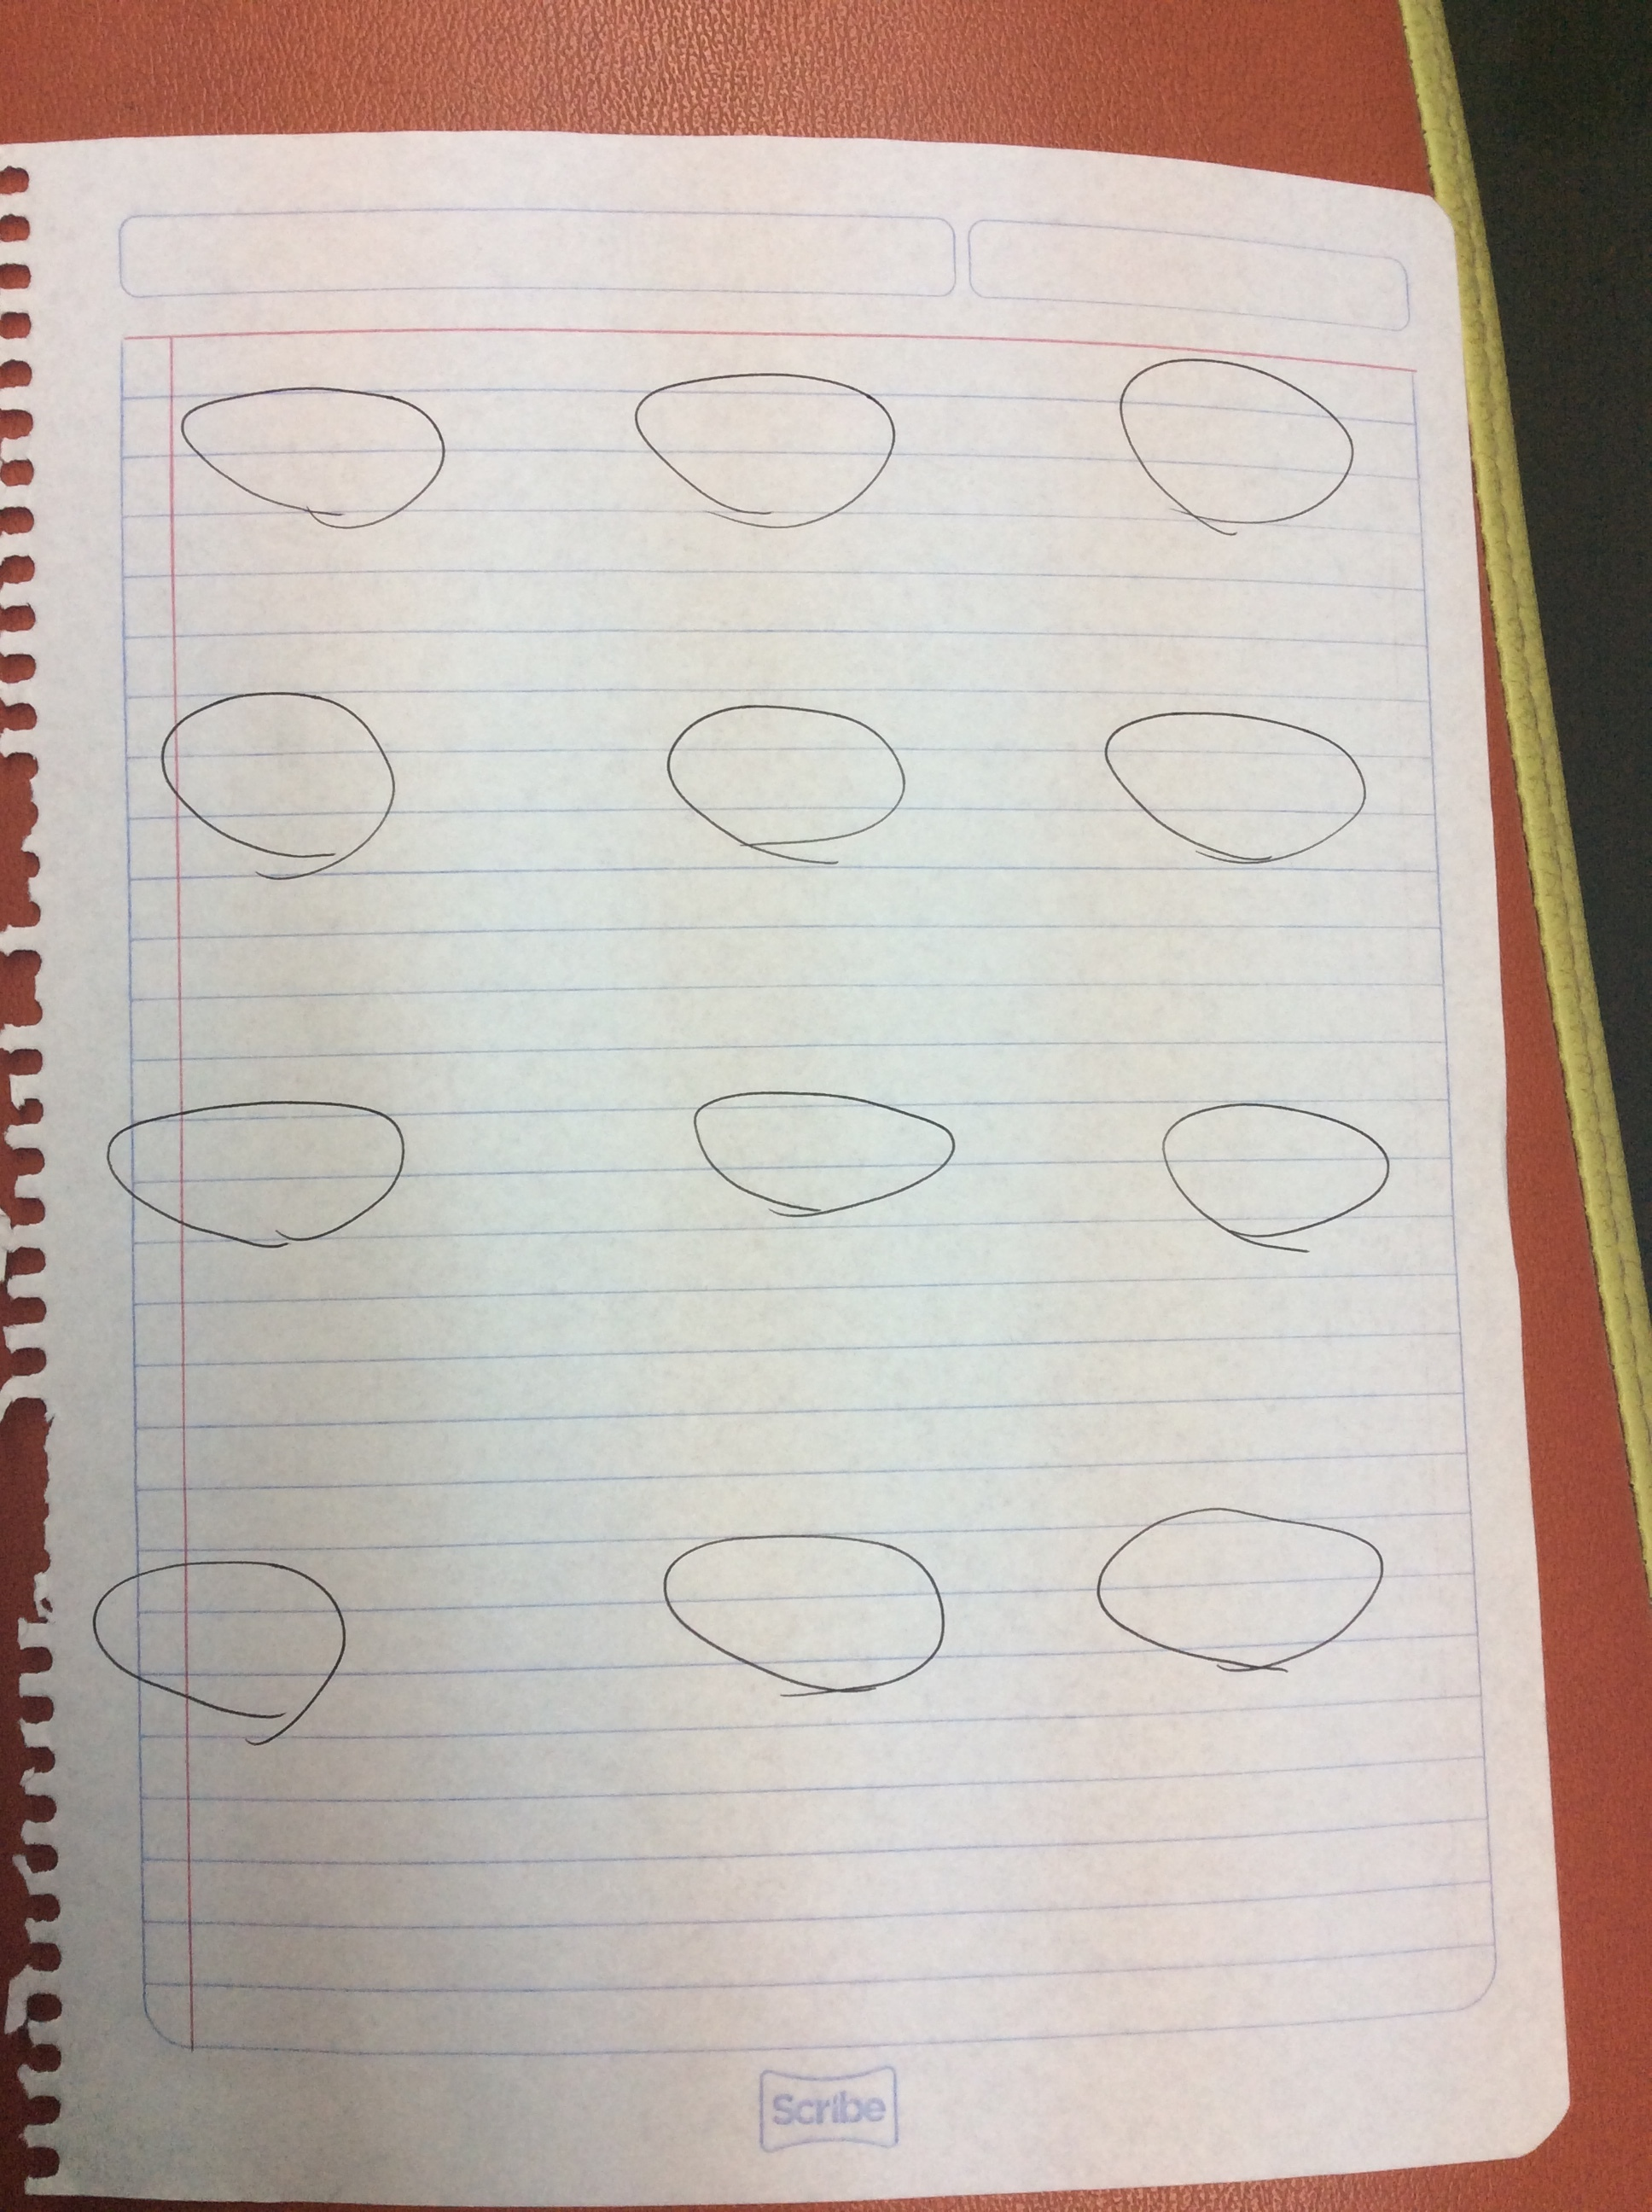start_end: (1060, 1471, 1418, 1697), (633, 1516, 979, 1744), (76, 1072, 436, 1280), (1086, 324, 1378, 574), (135, 670, 432, 914), (609, 335, 937, 553), (1118, 1051, 1425, 1284), (1071, 689, 1404, 892), (647, 1055, 984, 1253), (76, 1542, 380, 1754), (161, 349, 472, 553), (637, 684, 930, 895)
